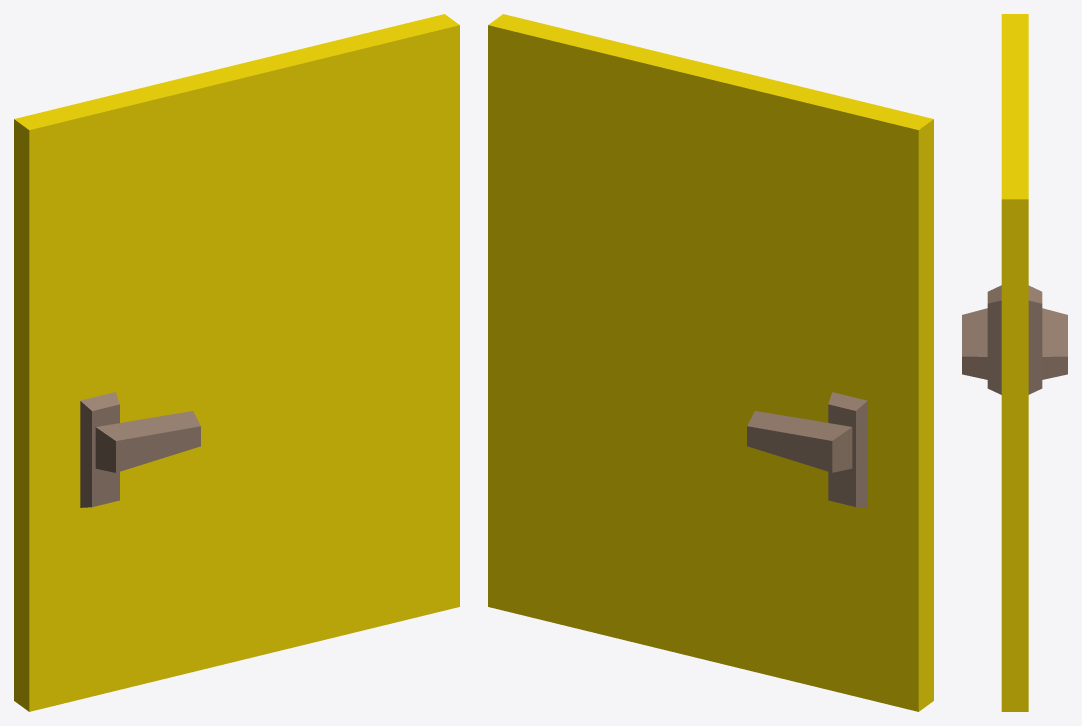
File: Door_geo.fbx
The picture shows the model from 3 angles, left to right: view 1: azimuth 30°, elevation 25°; view 2: azimuth 150°, elevation 25°; view 3: azimuth 270°, elevation 25°; orthographic projection. The views are drawn at different scales.
Parts seen in each view (by area): view 1: Door_geo; view 2: Door_geo; view 3: Door_geo.
Boxes of the visible parts, box(x1,y1,x2,y2) form: Door_geo: box(14, 14, 459, 711); Door_geo: box(488, 14, 933, 711); Door_geo: box(962, 14, 1067, 711).
Bounding box in the file's own units: 1.39 × 0.3352 × 1.79.
